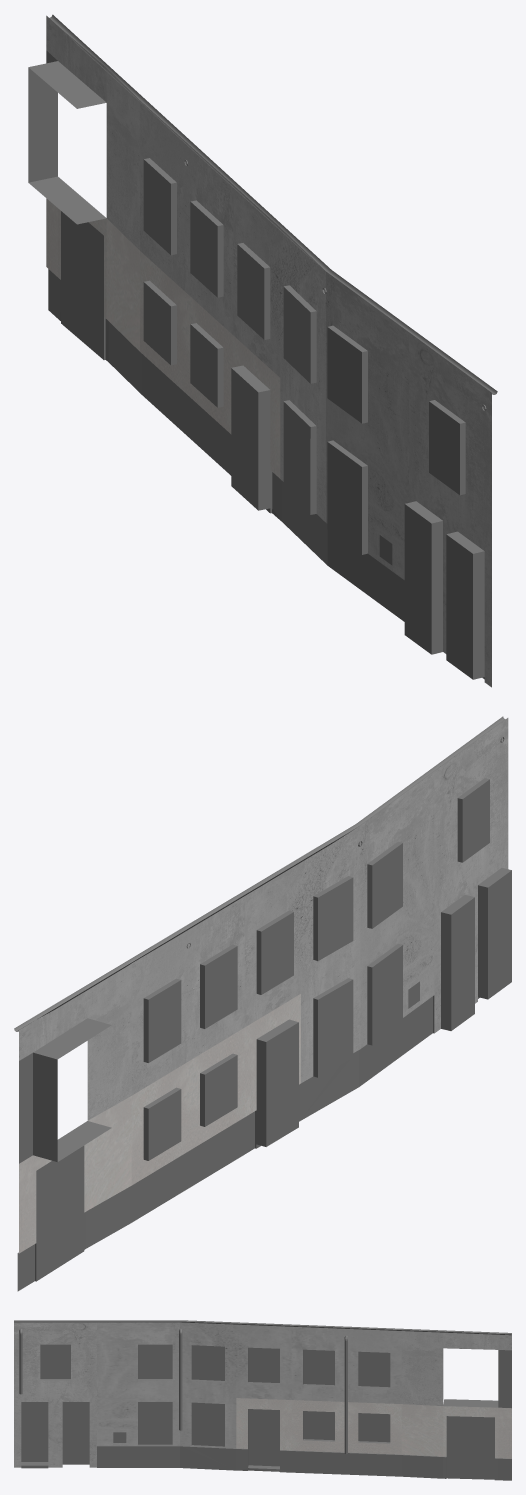
The model's file is paintedHousesLeft.fbx.
The picture shows the model from 3 angles, top to bottom: view 1: azimuth 30°, elevation 25°; view 2: azimuth 150°, elevation 25°; view 3: azimuth 270°, elevation 25°; orthographic projection. The views are drawn at different scales.
Visible parts, largest first — view 1: leftHouses; view 2: leftHouses; view 3: leftHouses.
Part boxes in pixels (x1,y1,x2,y2): leftHouses: (28, 14, 497, 687); leftHouses: (14, 716, 511, 1291); leftHouses: (14, 1320, 511, 1480).
Bounding box in the file's own units: 122 × 490 × 1500.
3 materials, 2 textured.
